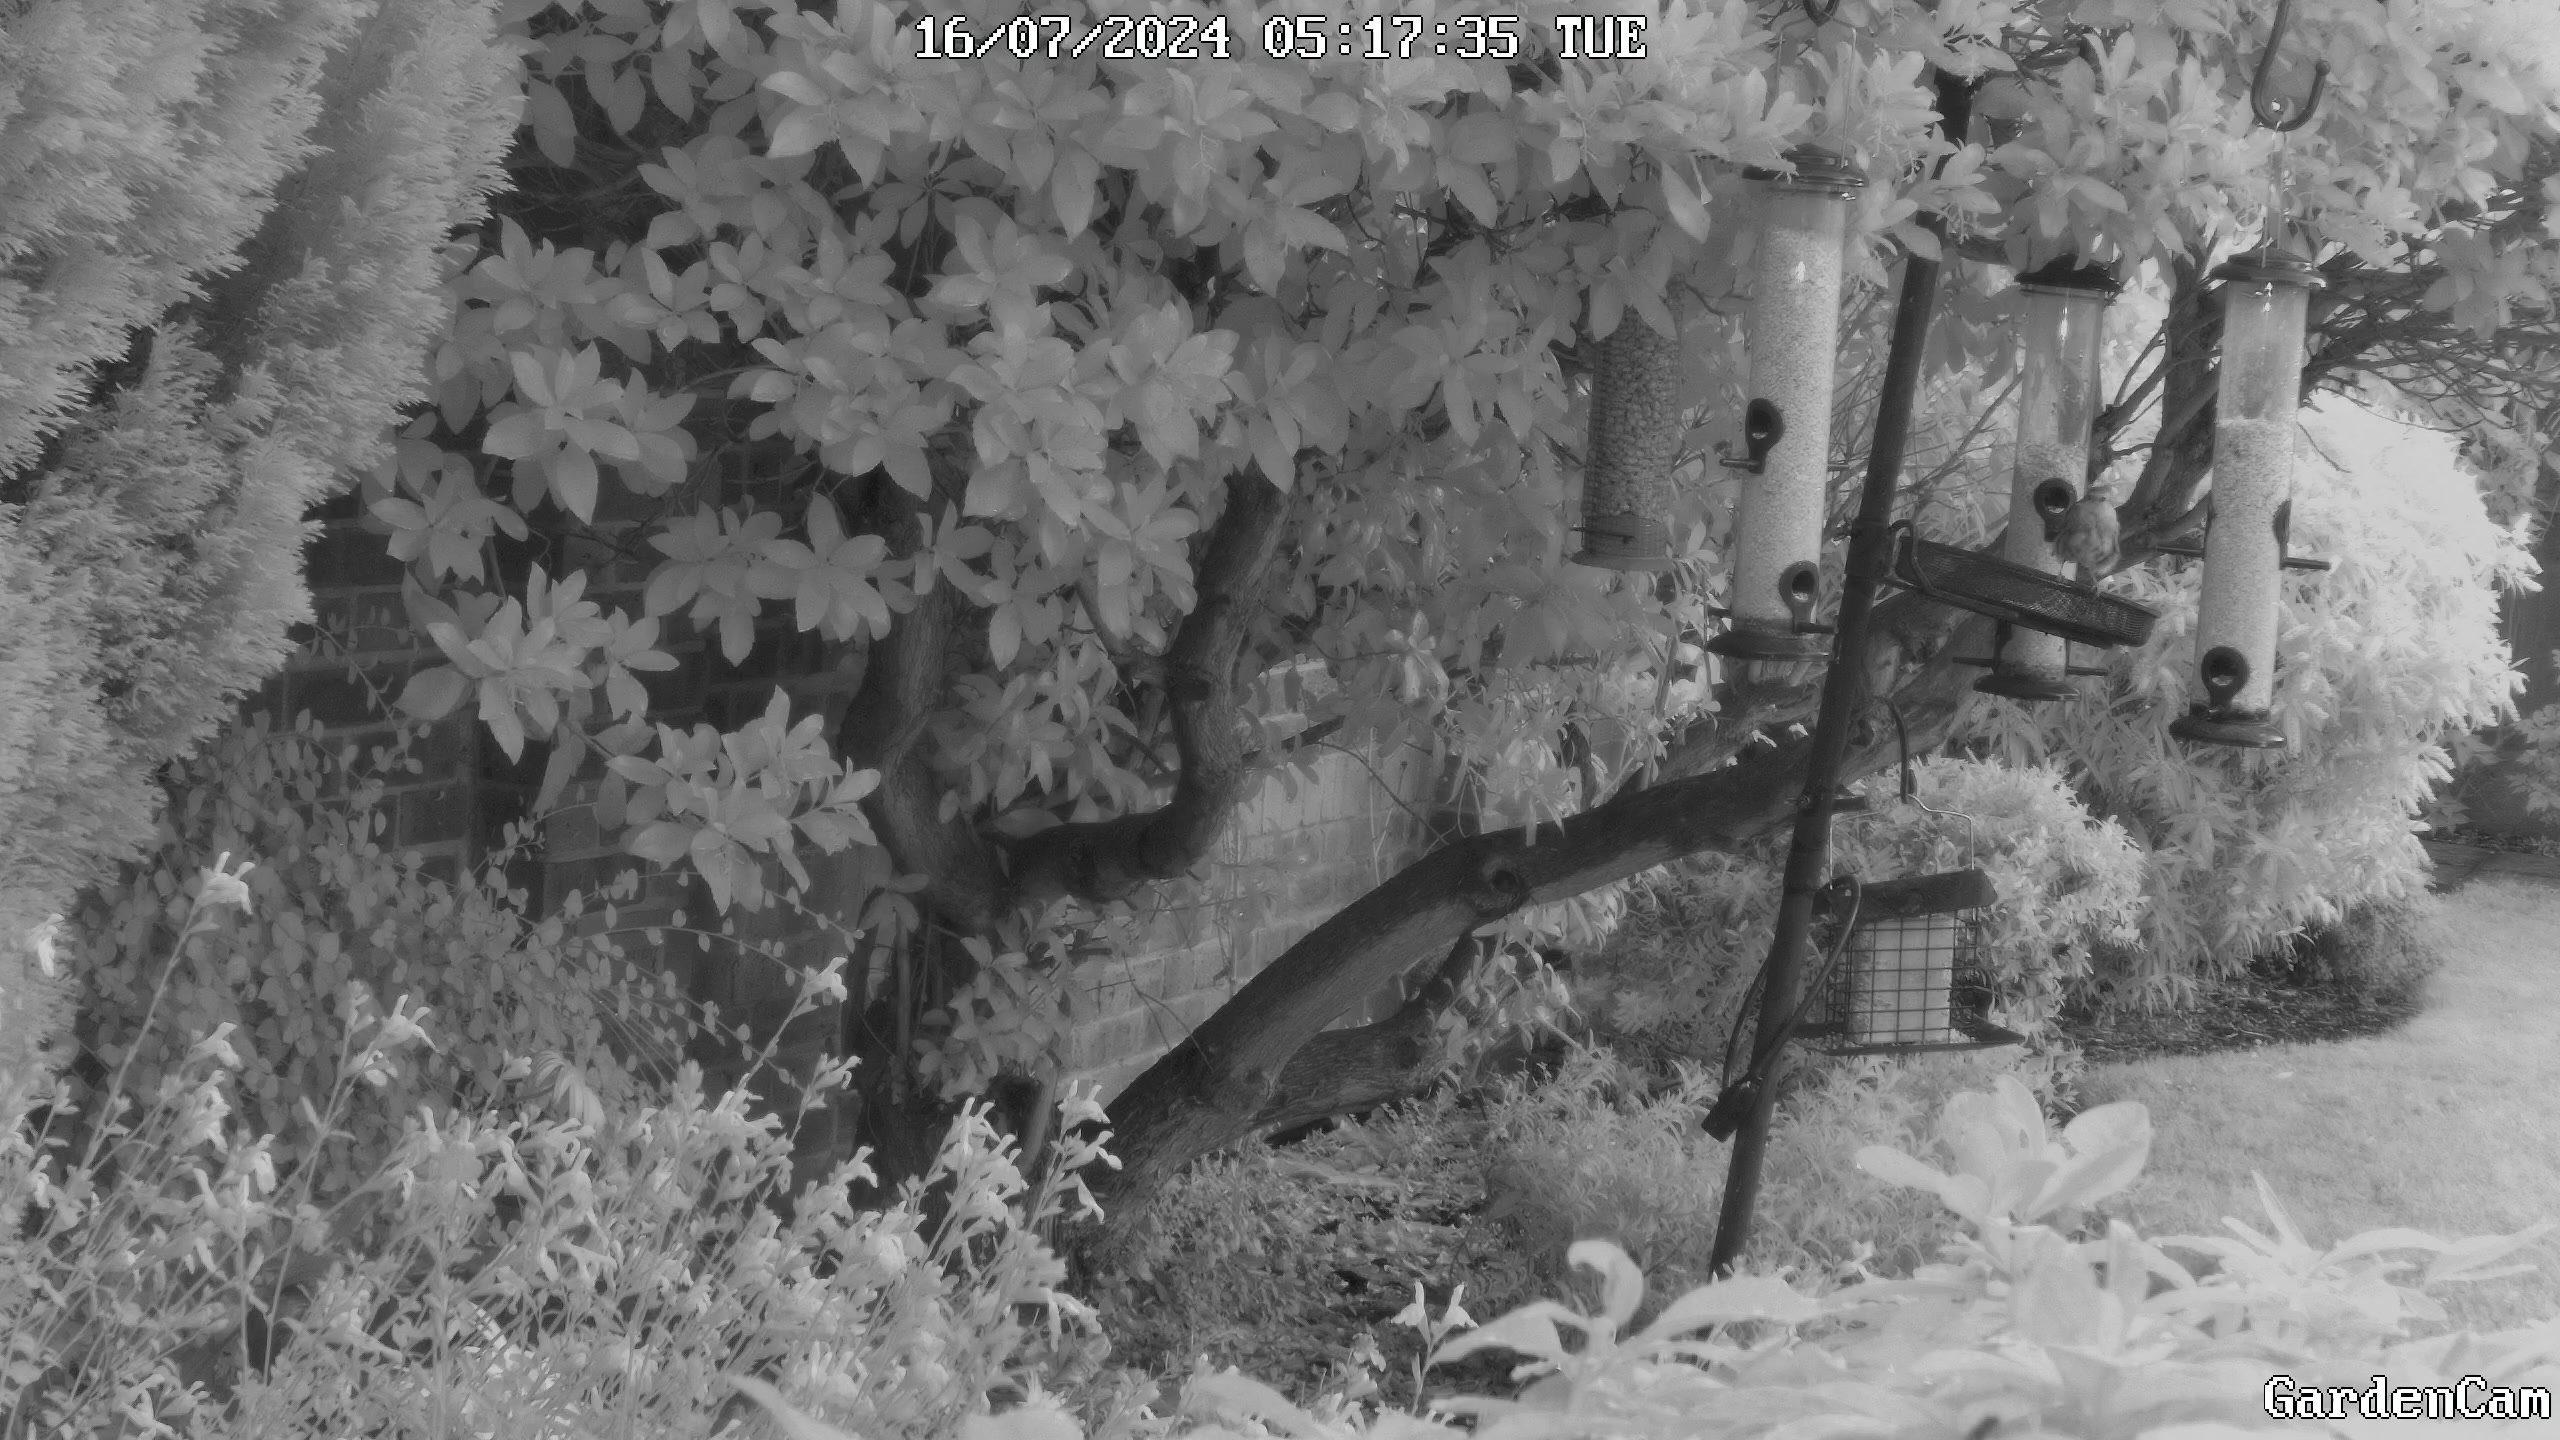Robin: (2041, 482, 2129, 608)
